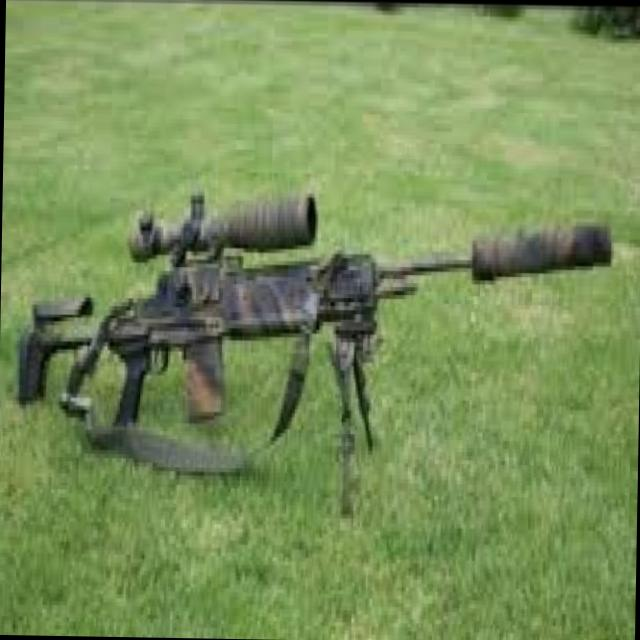Gun: (0, 162, 640, 468)
